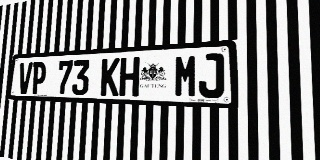3: (72, 59, 90, 95)
7: (56, 60, 73, 95)
H: (119, 57, 140, 96)
J: (198, 53, 224, 98)
K: (100, 58, 120, 96)
M: (174, 54, 198, 98)
P: (31, 61, 47, 94)
V: (17, 62, 33, 94)
